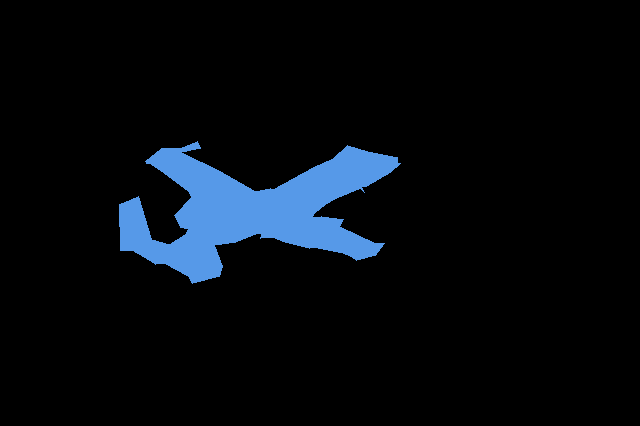Airplane: (119, 141, 401, 284)
